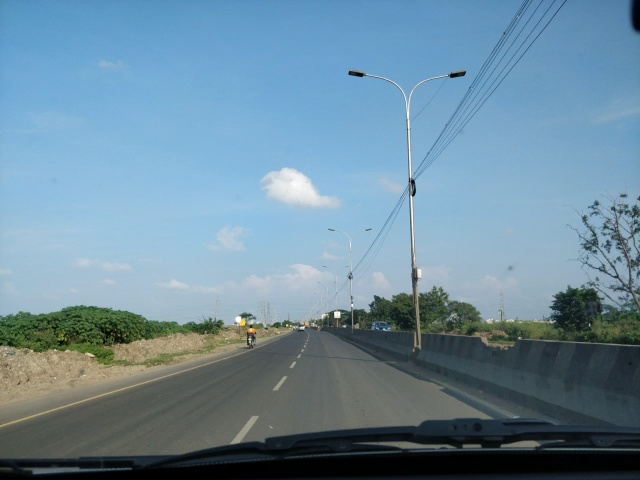car: (363, 309, 399, 347), (289, 322, 312, 332)
motorbike: (235, 318, 264, 359)
